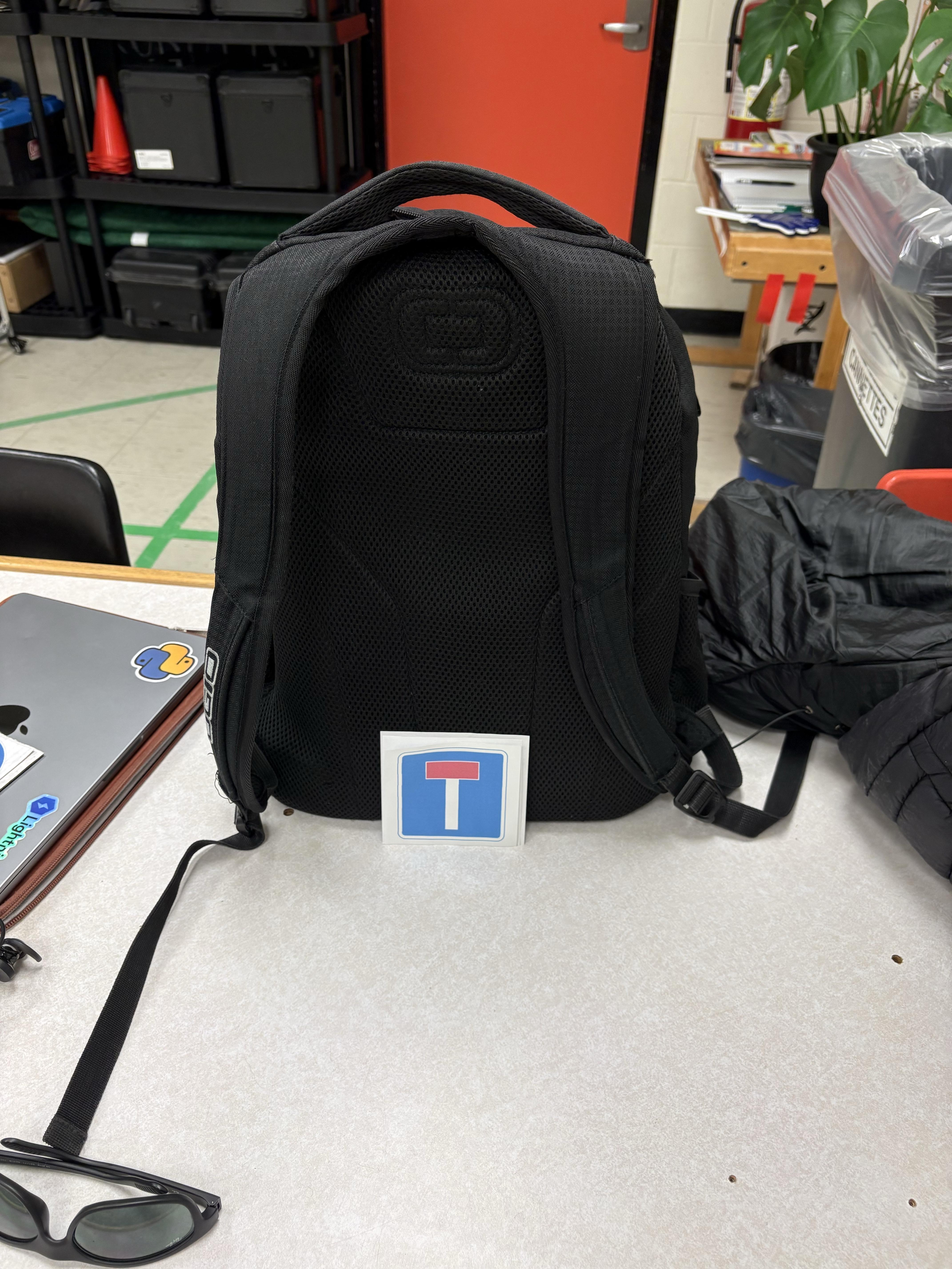Dead End: (285, 977, 398, 1140)
